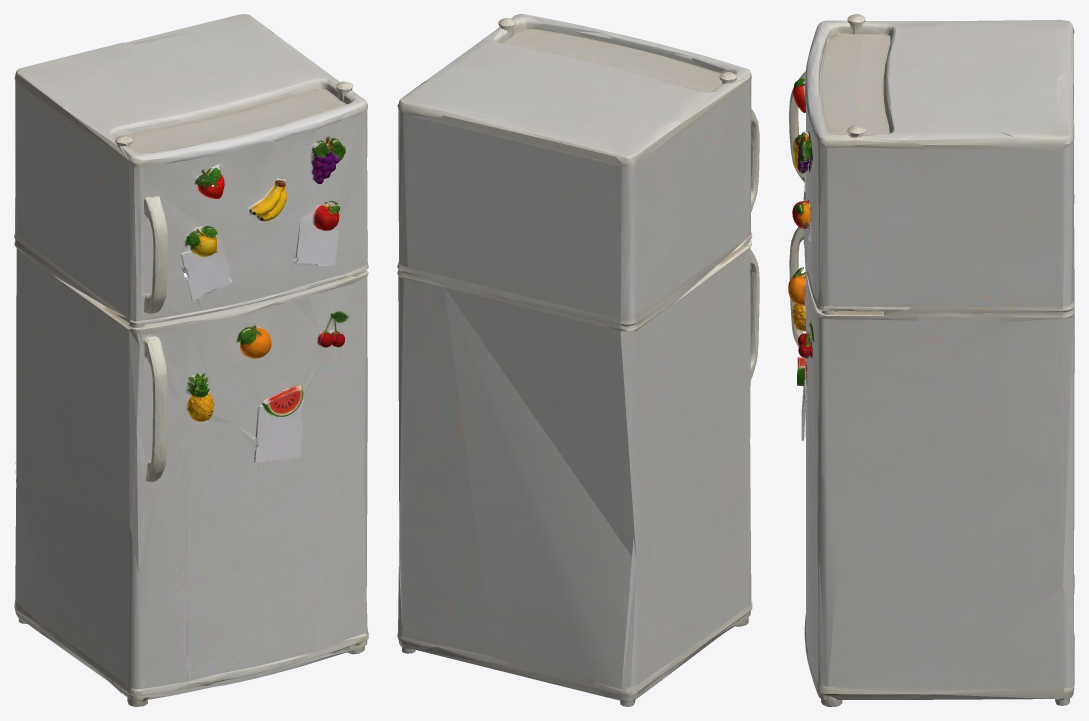
Rendered from w4fridge.glb.
3 renders of one model, left to right at view 1: azimuth 30°, elevation 25°; view 2: azimuth 150°, elevation 25°; view 3: azimuth 270°, elevation 25°, orthographic. The views are drawn at different scales.
Parts seen in each view (by area): view 1: output_unwrapped; view 2: output_unwrapped; view 3: output_unwrapped.
Boxes of the visible parts, x1=… form: output_unwrapped: x1=14, y1=14, x2=368, y2=706; output_unwrapped: x1=397, y1=14, x2=759, y2=706; output_unwrapped: x1=788, y1=14, x2=1074, y2=706.
Bounding box in the file's own units: 0.7613 × 1.7 × 0.7644.
Materials: 1 (1 with a texture image).
